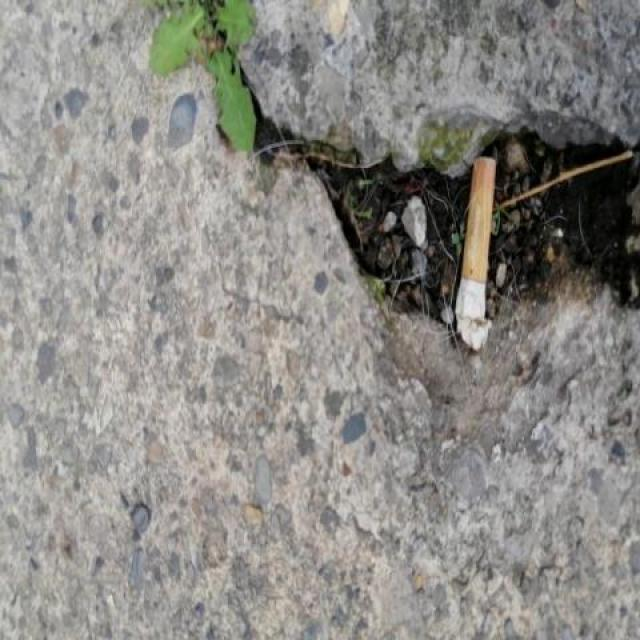non-organic waste: (452, 150, 497, 354)
